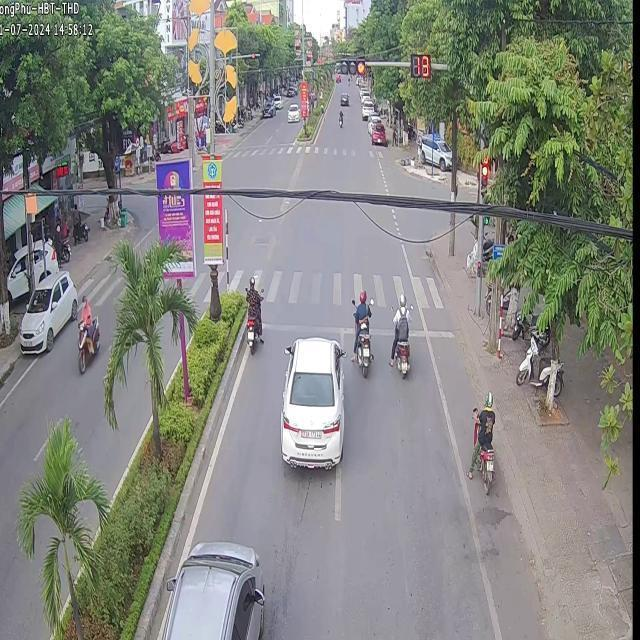car: (160, 540, 263, 638), (279, 336, 344, 467), (18, 269, 76, 351)
motobike: (466, 391, 493, 490), (244, 276, 262, 349), (76, 316, 98, 371), (354, 316, 372, 376), (393, 340, 408, 376)
red_light: (339, 58, 366, 73), (410, 54, 431, 73), (479, 152, 487, 195)
stop_line: (263, 321, 339, 331), (427, 329, 450, 336), (369, 327, 390, 334), (408, 327, 423, 336), (342, 320, 352, 332)
